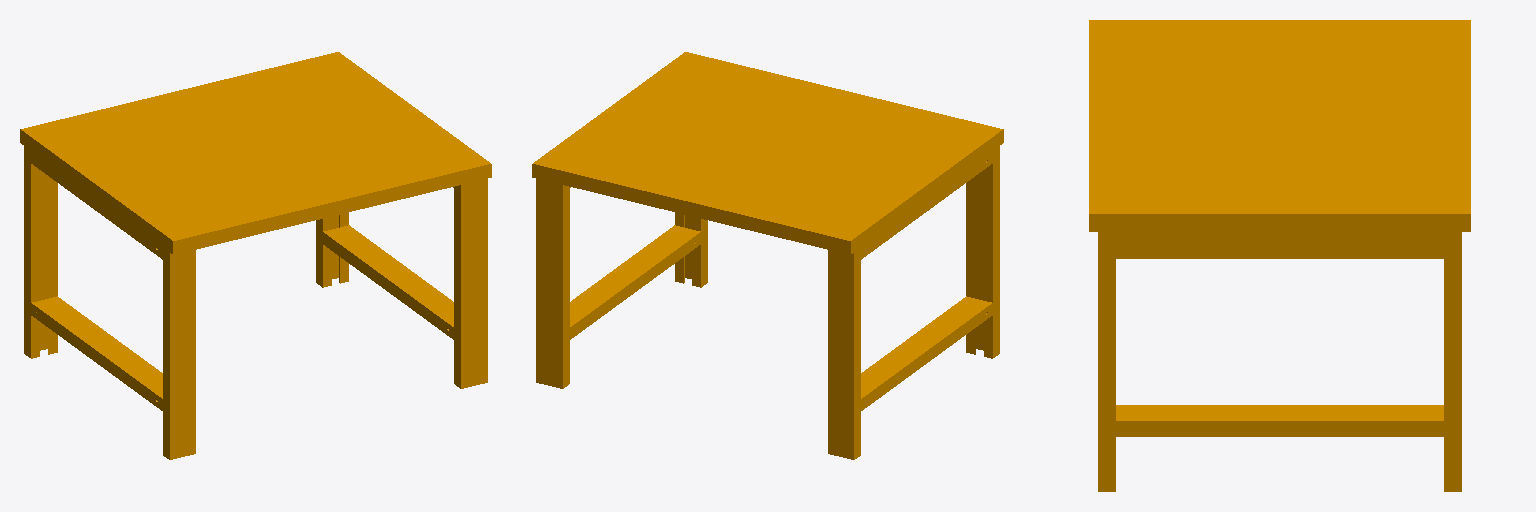
URDF robot description (table):
<?xml version="1.0"?>
<robot name="table">
  <link name="base_link">
    <inertial>
      <mass value="0.25" />
      <origin xyz="0 0 0" />
      <inertia  ixx="0.0002" ixy="0.0"  ixz="0.0"  iyy="0.0002"  iyz="0.0"
      izz="0.0002" />
    </inertial>
    <visual>
      <geometry>
        <mesh filename="./meshes/table.obj"/>
      </geometry>
    </visual>
    <collision>
        <origin xyz="0.2 0 0.775" />
      <geometry>
        <box size="1.2 1.0 0.05"/>
      </geometry>
    </collision>
  </link>

  <link name="robot_stand">
    <inertial>
      <mass value="0.25" />
      <origin xyz="0 0 0" />
      <inertia  ixx="0.0002" ixy="0.0"  ixz="0.0"  iyy="0.0002"  iyz="0.0"
      izz="0.0002" />
    </inertial>
    <visual>
      <geometry>
        <mesh filename="./meshes/robot_stand.obj"/>
      </geometry>
    </visual>
    <collision>
        <origin xyz="-0.65 0 1.075" />
      <geometry>
        <box size="0.25 0.25 0.05"/>
      </geometry>
    </collision>
  </link>

  <joint name="a_fixed_joint" type="fixed">
    <origin xyz="0 0 0" rpy="0 0 0"/>
    <parent link="base_link"/>
    <child link="robot_stand"/>
 </joint>
</robot>

--- Render facts (derived) ---
The picture shows the robot from 3 angles, left to right: view 1: azimuth 30°, elevation 25°; view 2: azimuth 150°, elevation 25°; view 3: azimuth 270°, elevation 25°; orthographic projection.
Robot: table — 2 links, 1 joints (1 fixed); root link base_link; default pose: every joint at zero.
Visible links, largest first — view 1: base_link; view 2: base_link; view 3: base_link.
Link boxes in pixels (<box>): base_link: <box>20,52,491,459</box>; base_link: <box>532,52,1003,459</box>; base_link: <box>1089,20,1470,491</box>.
Bounding box of the posed robot: 1.2 × 1 × 0.8 m (x, y, z).
Meshes: 2 distinct files referenced, 1 mesh visuals loaded (1 OBJ); not drawn: 1 (reference not matched to a file when rendering).